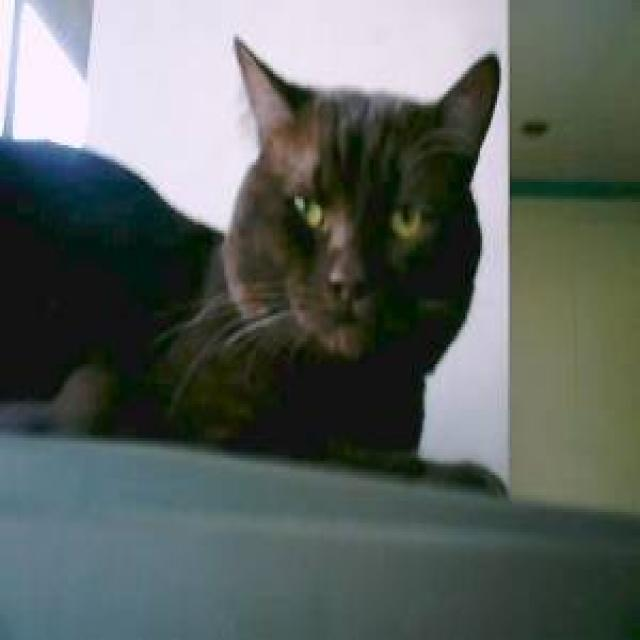British_Shorthair: (216, 26, 504, 378)
